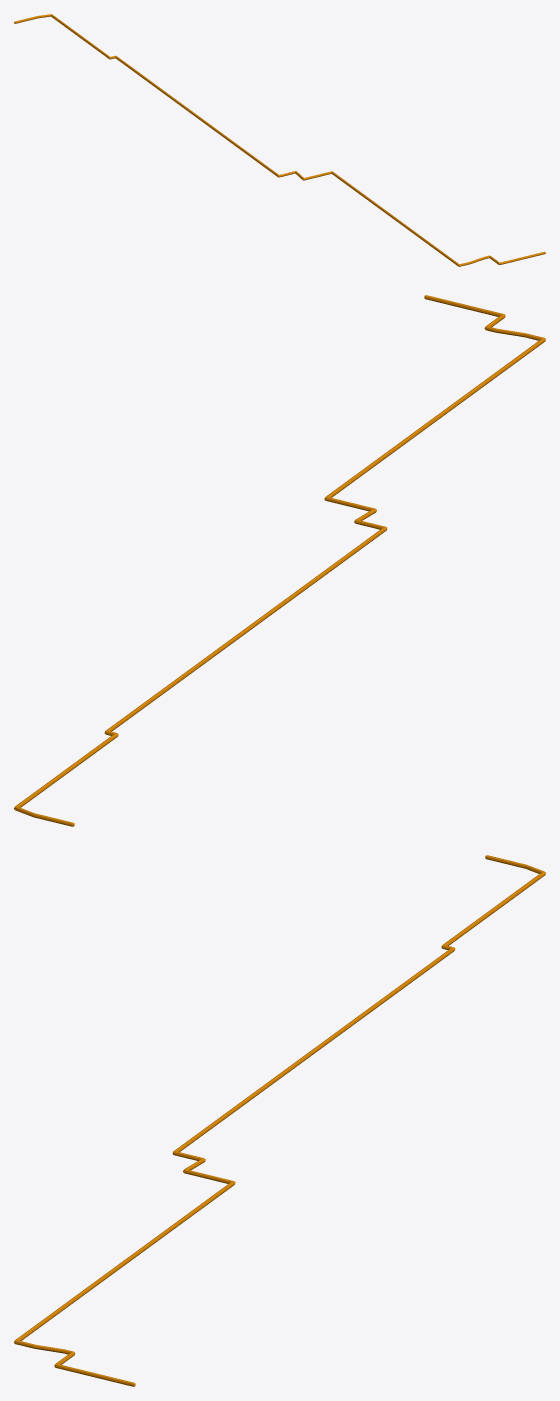
3 renders of one model, top to bottom at view 1: azimuth 30°, elevation 25°; view 2: azimuth 150°, elevation 25°; view 3: azimuth 330°, elevation 25°, orthographic. The views are drawn at different scales.
Size of the model in its own units: 1446 by 20 by 5664.
